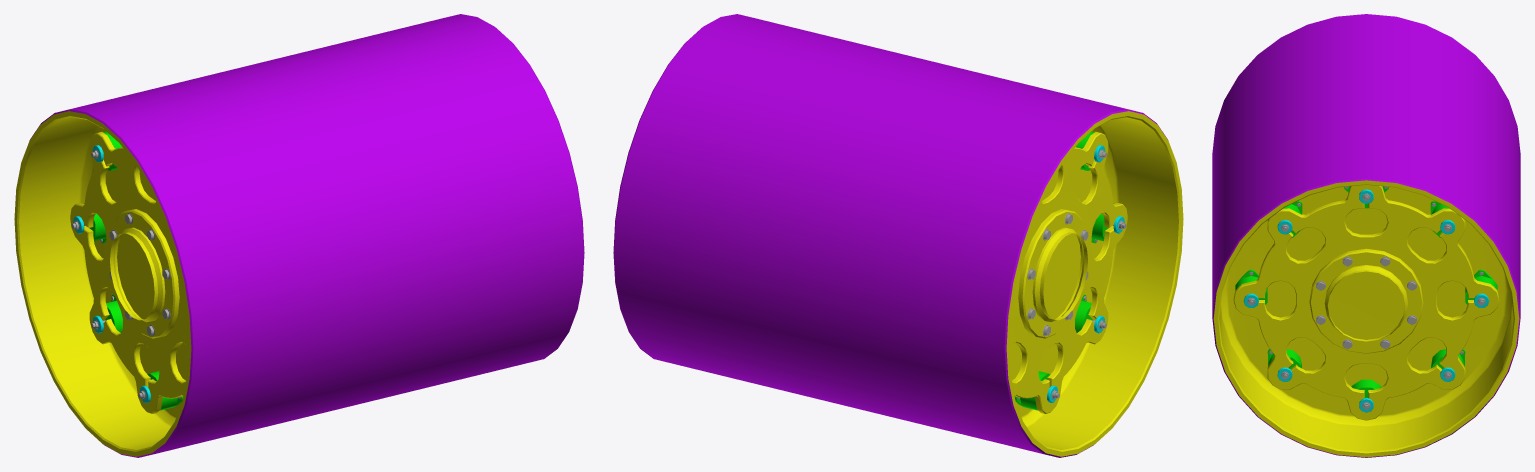
The model's file is Compactor_Roller_01a_snaps005.fbx.
3 renders of one model, left to right at view 1: azimuth 30°, elevation 25°; view 2: azimuth 150°, elevation 25°; view 3: azimuth 270°, elevation 25°, orthographic. The views are drawn at different scales.
Parts seen in each view (by area): view 1: roller; view 2: roller; view 3: roller.
Boxes of the visible parts, box(x1,y1,x2,y2) form: roller: box(14, 14, 584, 457); roller: box(613, 14, 1183, 457); roller: box(1212, 14, 1520, 457).
Size of the model in its own units: 214 by 168 by 168.
